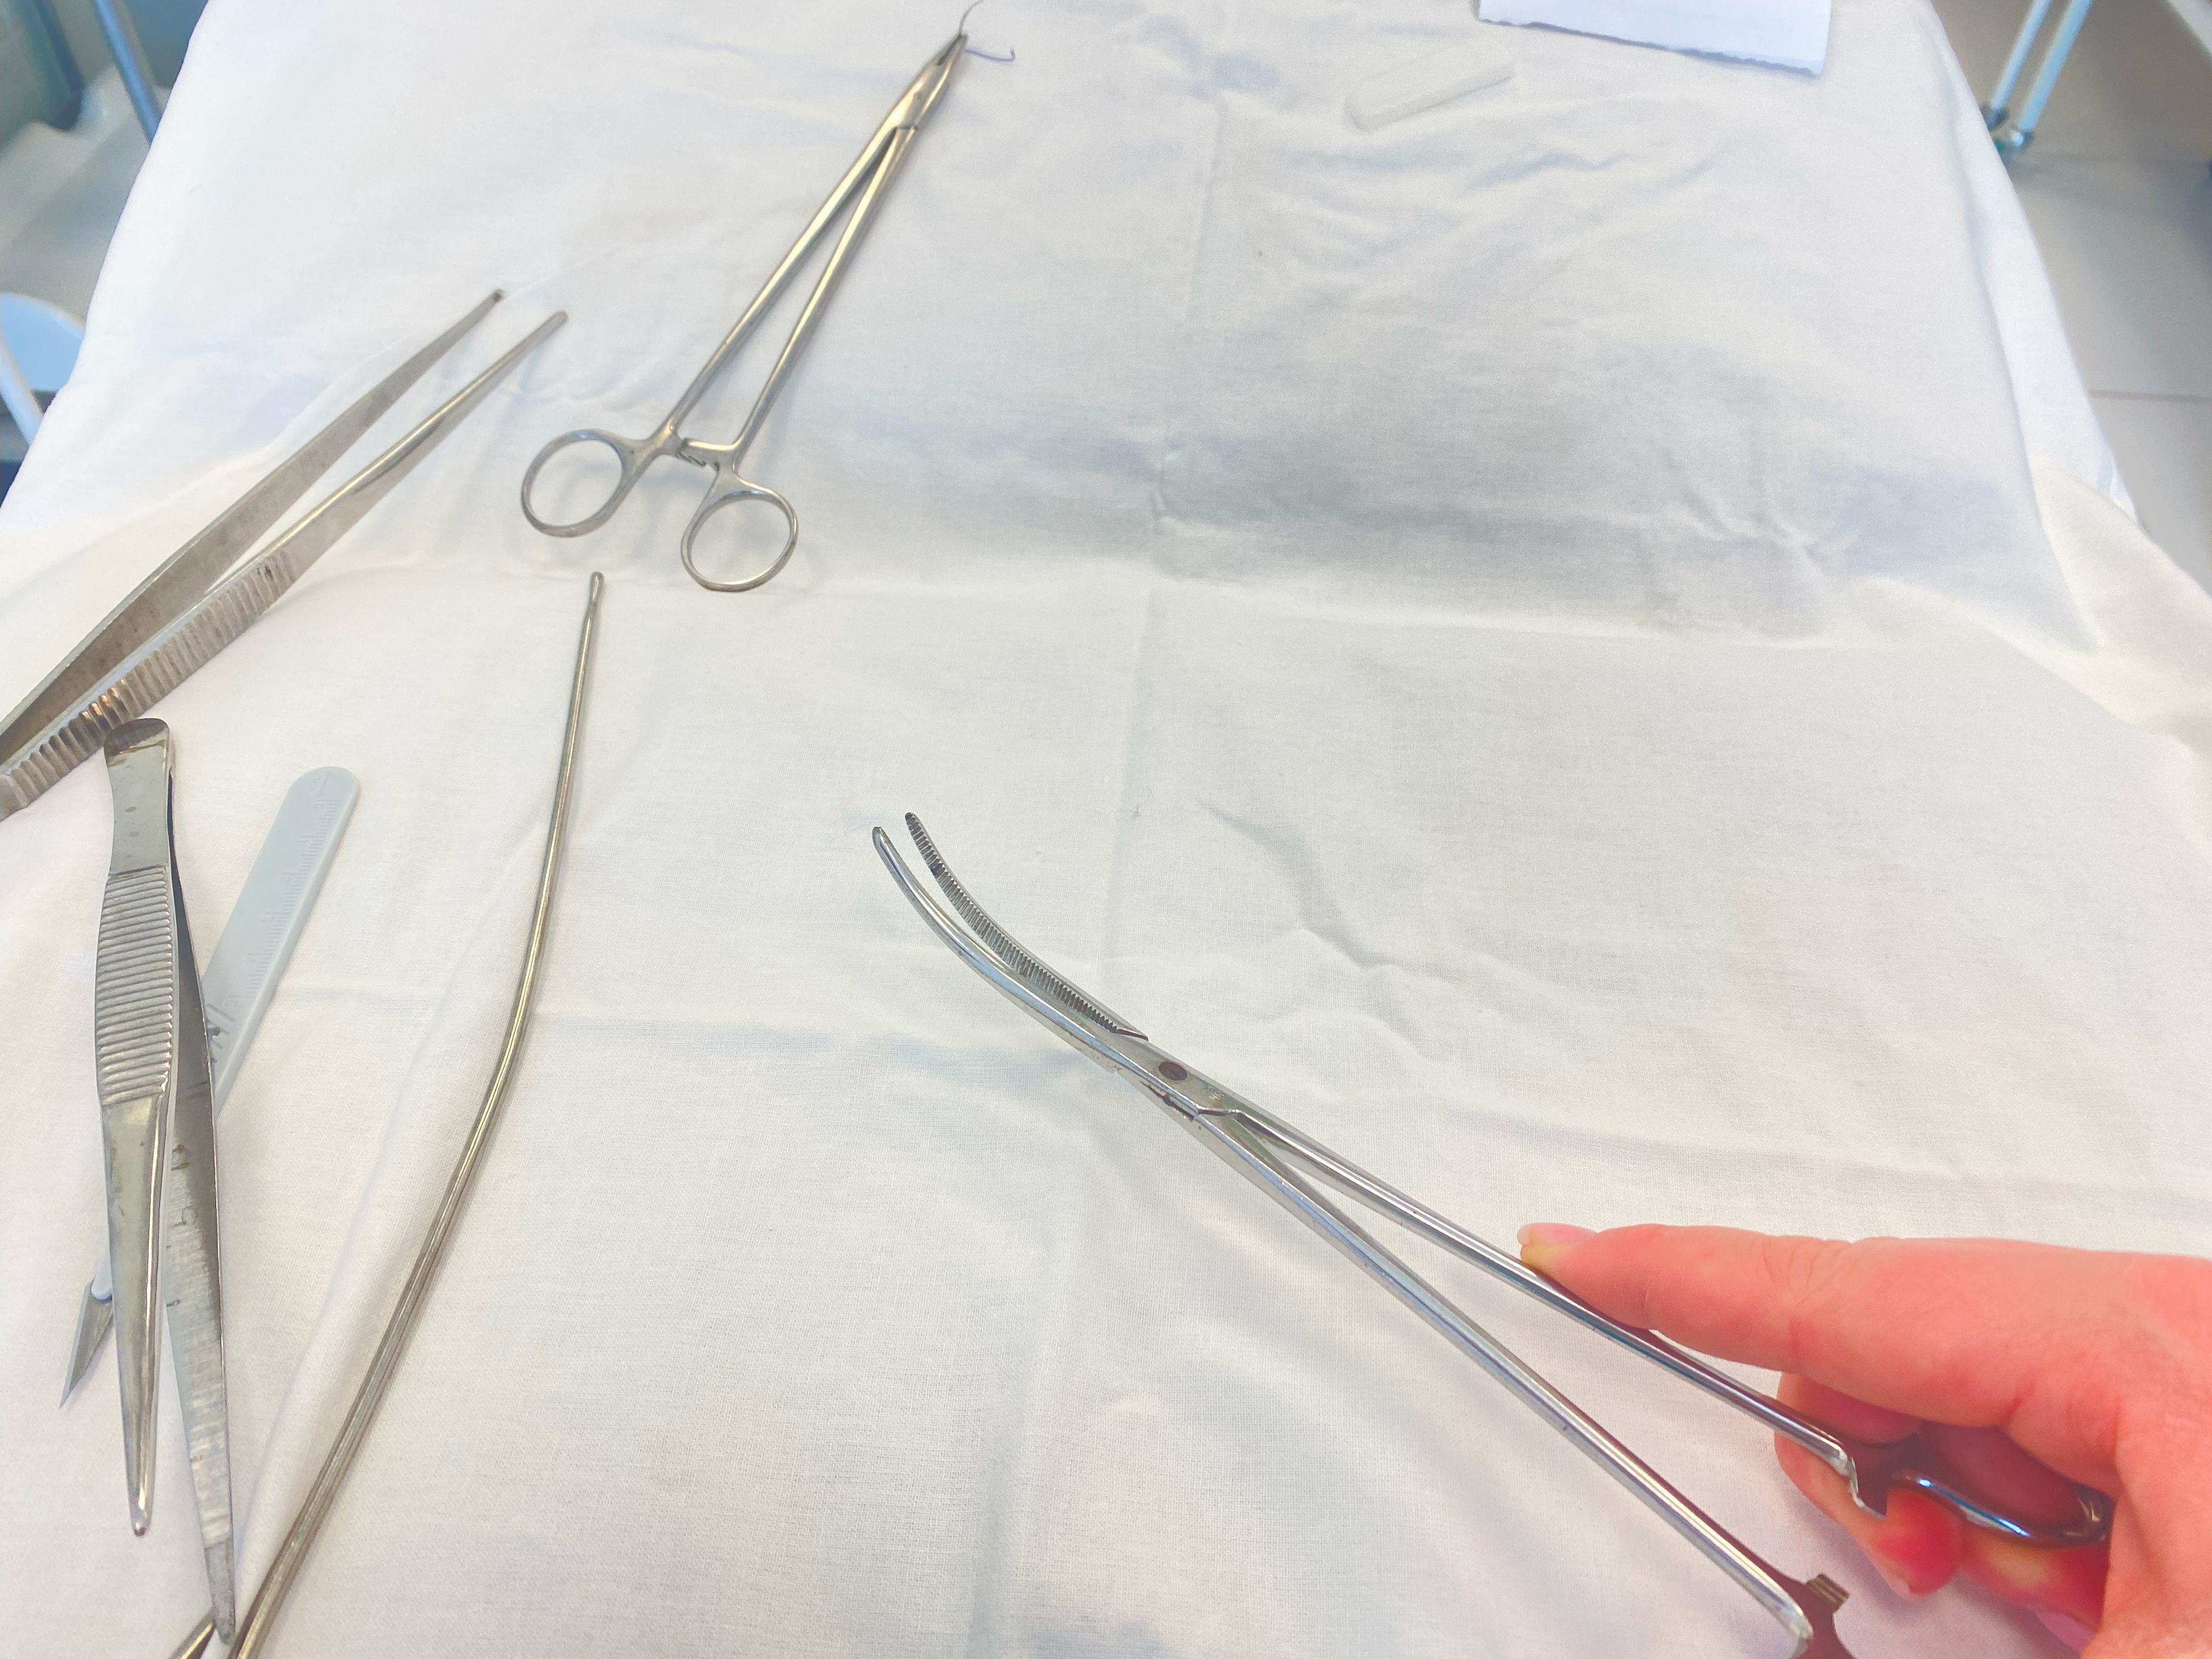clamp: (873, 814, 2109, 1635), (521, 16, 968, 592)
tweezers: (0, 291, 566, 819), (96, 720, 235, 1640)
